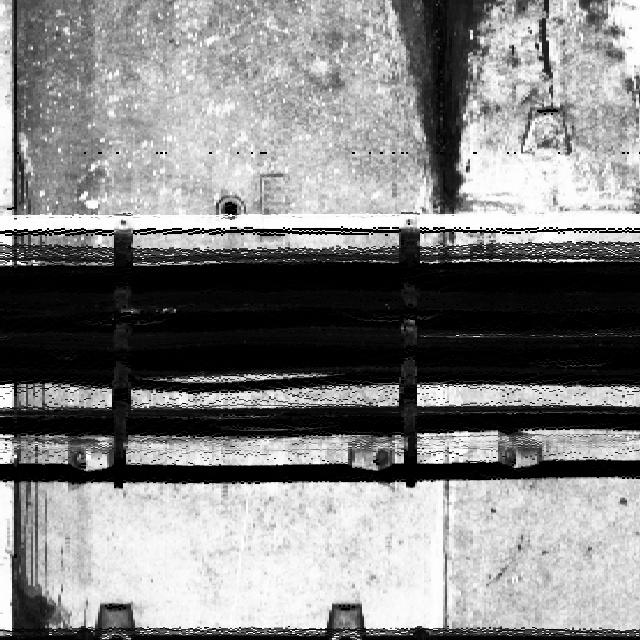leakage: (379, 0, 496, 213), (10, 442, 74, 639)
